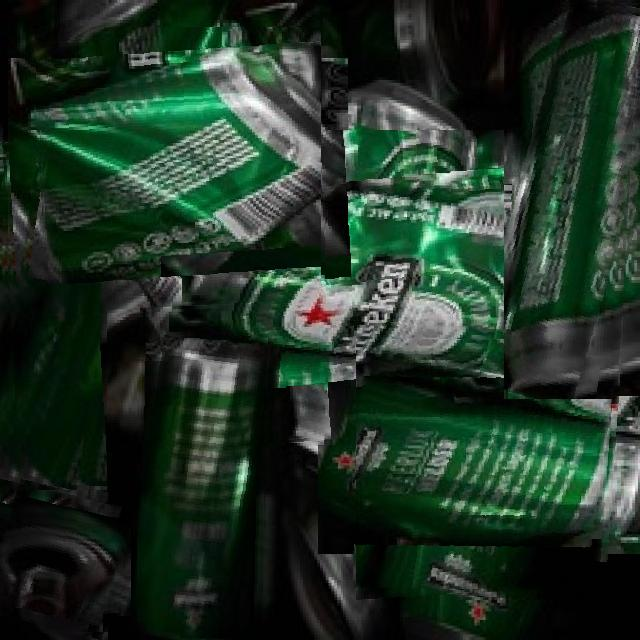recyclable: (221, 130, 536, 446), (36, 27, 321, 313), (356, 339, 618, 601), (504, 0, 640, 399), (0, 139, 107, 525), (137, 338, 268, 640), (0, 490, 126, 634)
